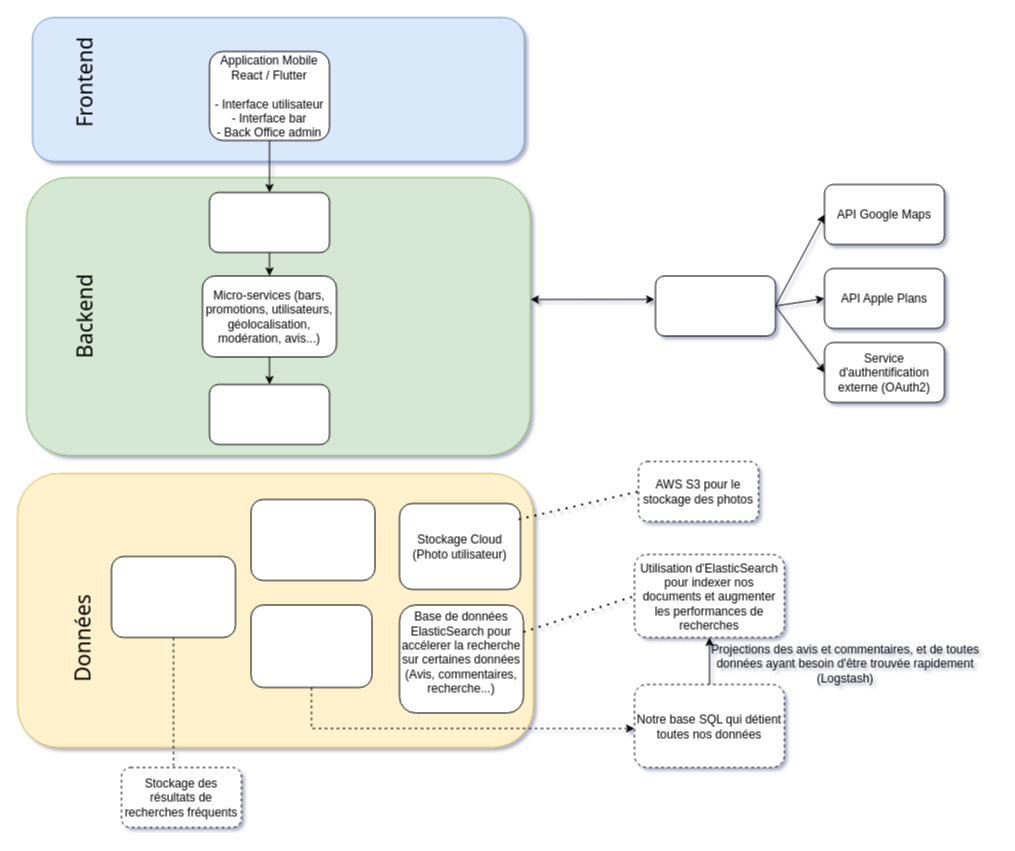
Image size: 1015x851. Some labels were removed from this diagram. Here are the shapes that lost their labels. From the top down, the box of each, then its label:
(208, 192, 330, 252): API Gateway REST/HTTPS Service d'AUTH
(654, 275, 776, 336): Appel API externe
(208, 384, 330, 444): Notification Service
(250, 498, 375, 580): PostGIS (requêtes géospatiales) --> Recherche de bar selon la position
(110, 556, 236, 638): Redis (cache, session...)
(250, 604, 372, 688): Base de données PosteGre (Utilisateur, profil, bar...)
